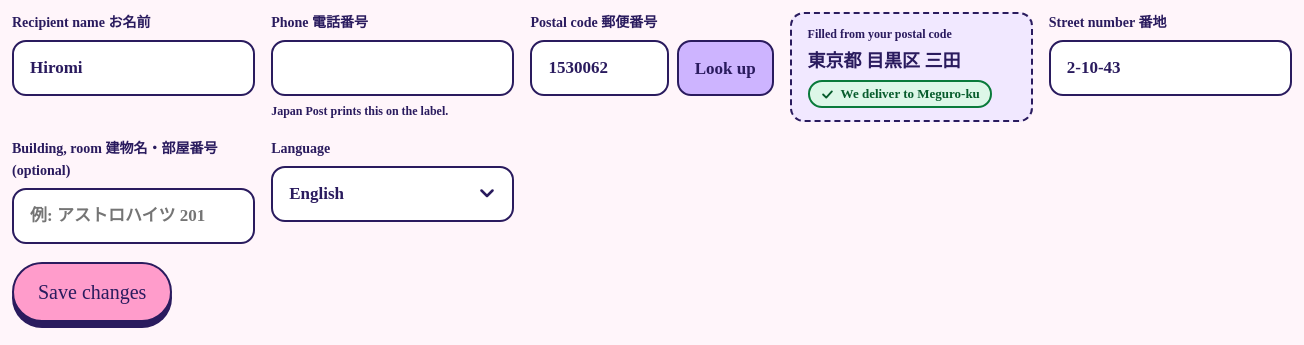
Test: ProfileForm phone and postal code › saves a number typed through a Japanese IME
Type "０９０ー１２３４ー５６７８" into the field labelled "Phone 電話番号" at (393, 68), box [271,40,514,96]
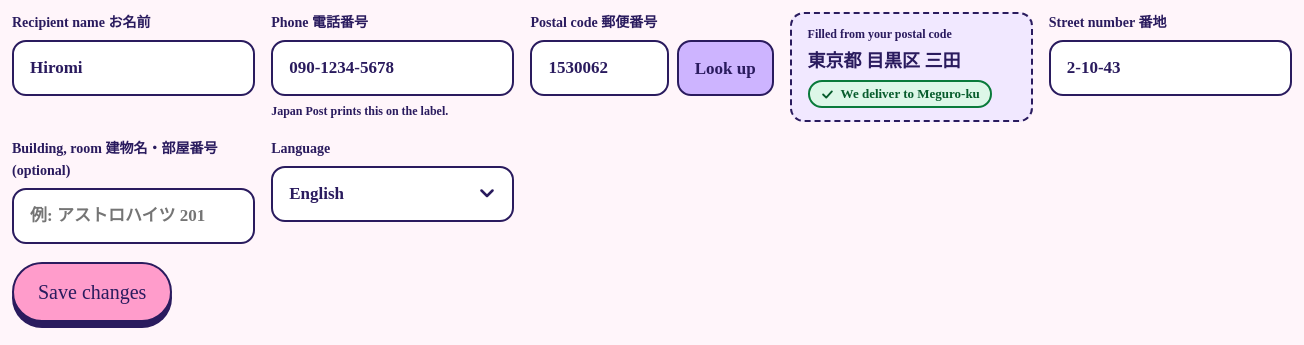
Click the button "Save changes" at (92, 292), box [12,262,172,322]
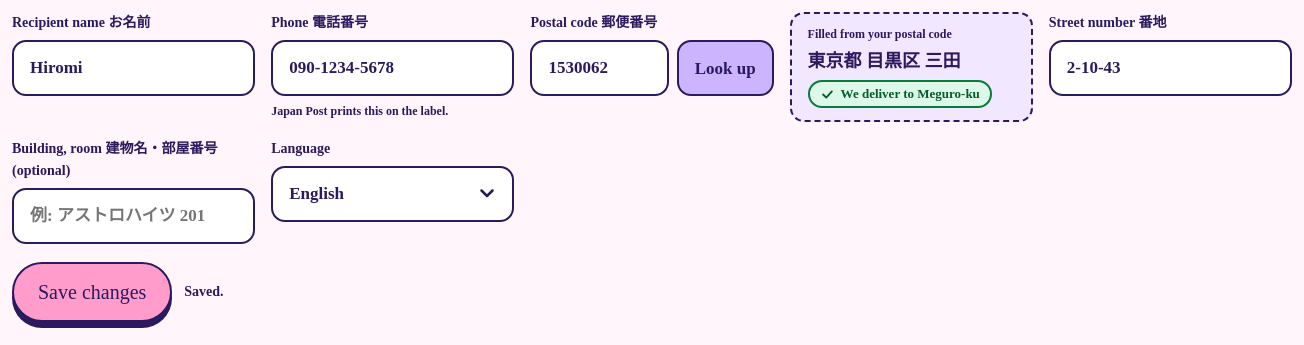
Expected: the message reads "Saved.", [184,284,224,299]
